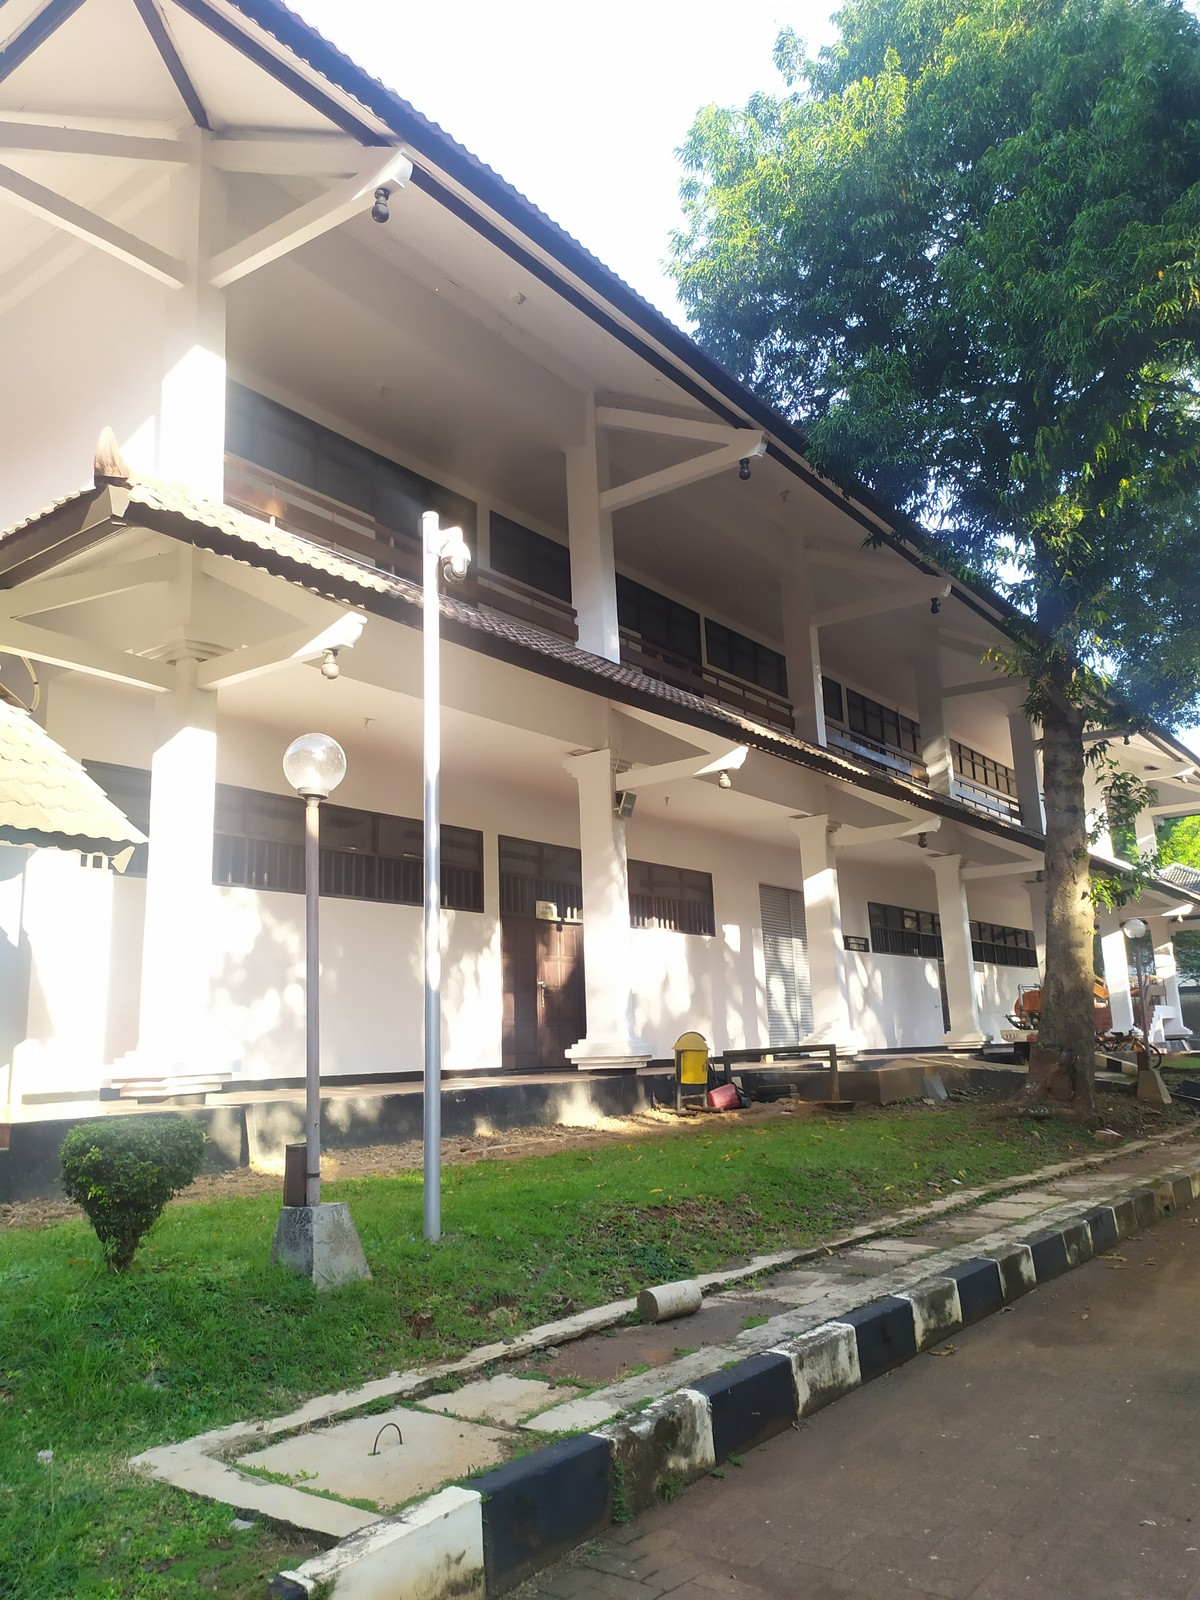concrete beam: (15, 624, 176, 695), (192, 631, 318, 689), (601, 757, 717, 805)
concrete column: (127, 688, 227, 1060), (146, 141, 236, 506), (575, 769, 644, 1049), (558, 401, 626, 663), (792, 820, 856, 1039), (775, 548, 836, 743)
